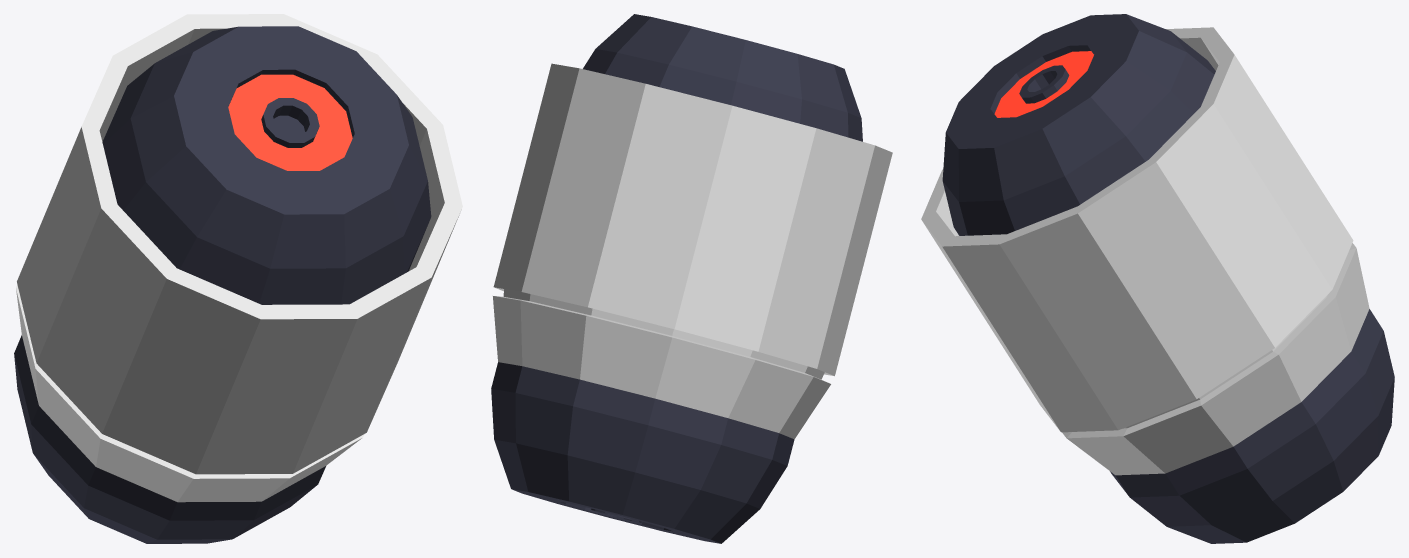
Rendered from Energy.glb.
The picture shows the model from 3 angles, left to right: view 1: azimuth 30°, elevation 25°; view 2: azimuth 150°, elevation 25°; view 3: azimuth 270°, elevation 25°; orthographic projection. The views are drawn at different scales.
Visible parts, largest first — view 1: Cylinder.023, Cylinder.024; view 2: Cylinder.023, Cylinder.024; view 3: Cylinder.023, Cylinder.024.
Boxes of the visible parts, x1,y1,x2,y2 form: Cylinder.023: (16,14,462,502); Cylinder.024: (14,26,431,543); Cylinder.023: (493,63,892,439); Cylinder.024: (491,14,862,543); Cylinder.023: (921,27,1369,475); Cylinder.024: (942,14,1394,543).
Bounding box in the file's own units: 1.83 × 2.76 × 2.39.
